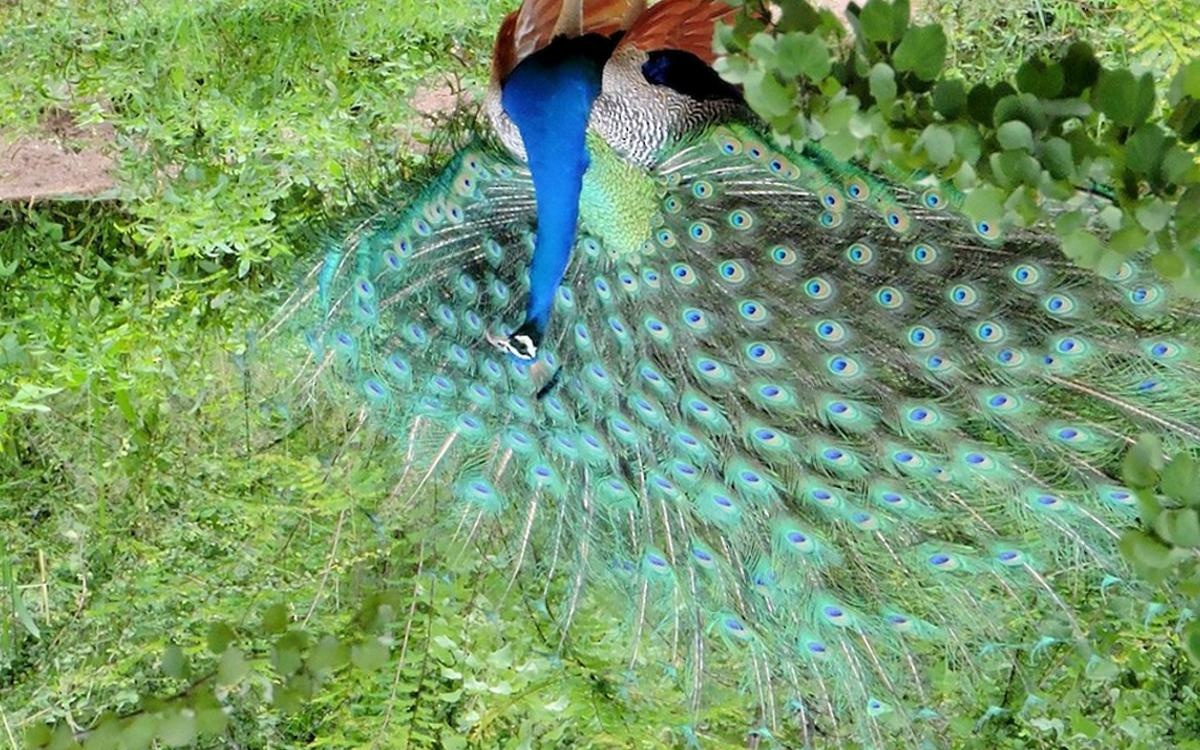peacock: (337, 1, 1047, 498)
